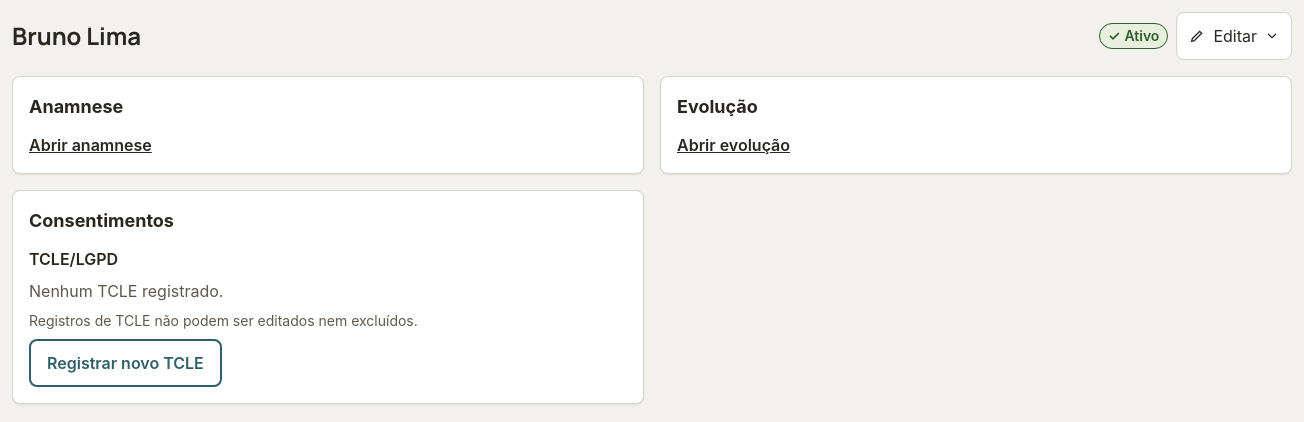
Scenario: Ficha do paciente › sem ciência de IA, sem editar dados e sem excluir
Check: the heading "Bruno Lima" is shown, box [12, 20, 141, 52]
Click the button "Editar" at (1234, 36), box [1176, 12, 1292, 60]
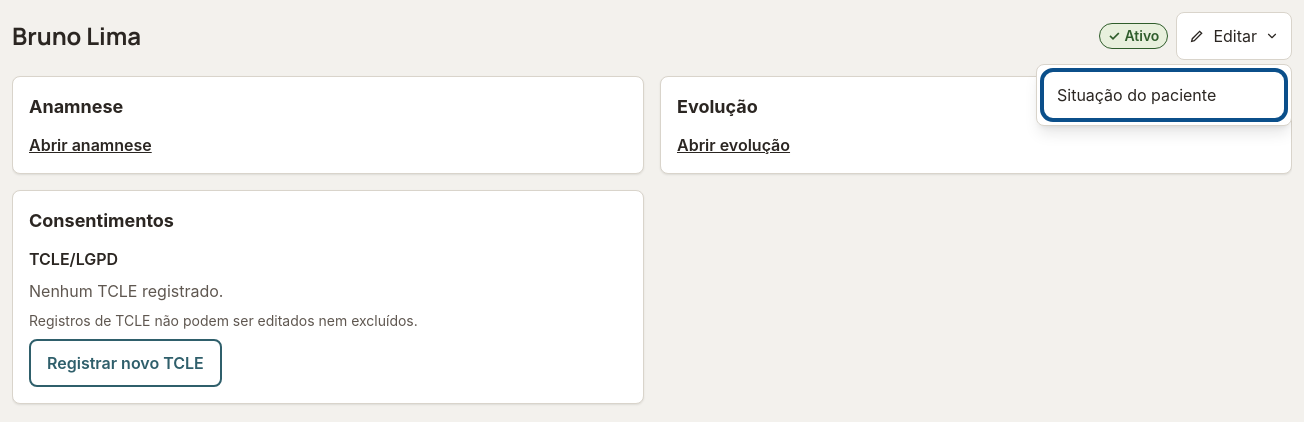
Check: the menu items read "Situação do paciente", in this order, box [1057, 85, 1216, 105]
